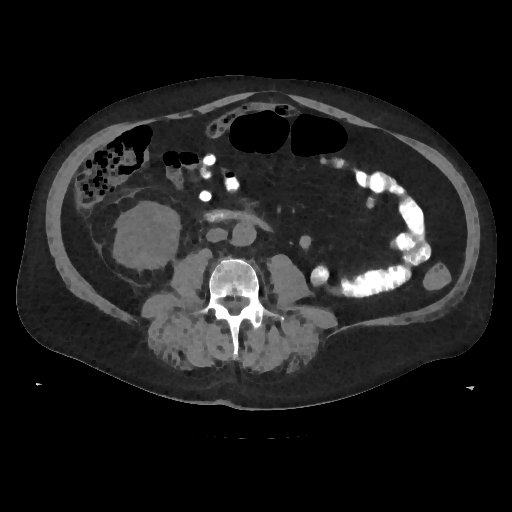Lesion: (112, 204, 181, 267)
